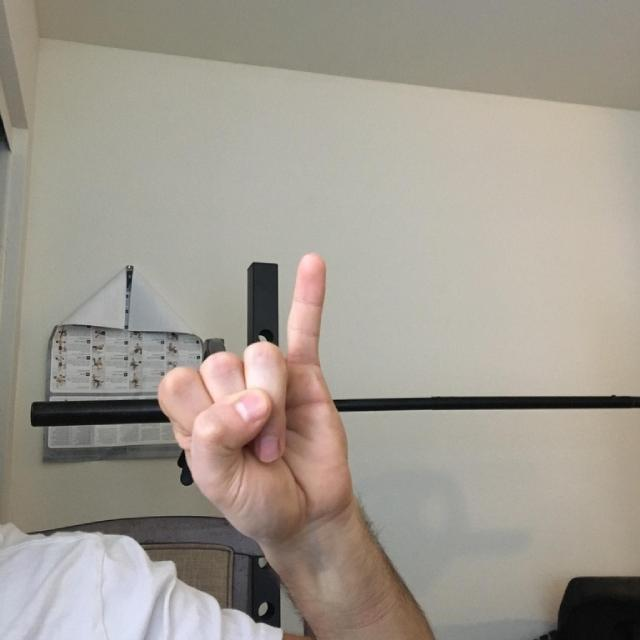I: (130, 218, 458, 546)
